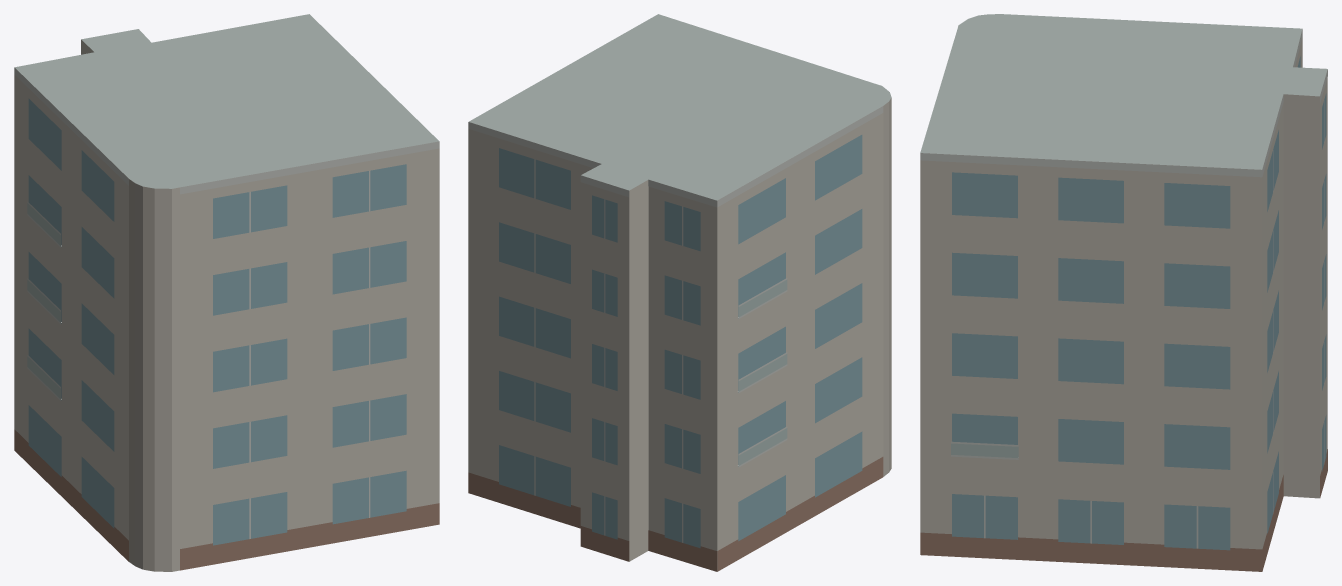
Rendered from survey-upis-32870442.glb.
The picture shows the model from 3 angles, left to right: view 1: azimuth 30°, elevation 25°; view 2: azimuth 150°, elevation 25°; view 3: azimuth 270°, elevation 25°; orthographic projection. The views are drawn at different scales.
Parts seen in each view (by area): view 1: survey-upis-32870442.tmp; view 2: survey-upis-32870442.tmp; view 3: survey-upis-32870442.tmp.
Part boxes in pixels (left/top/right/bottom): survey-upis-32870442.tmp: left=14, top=14, right=439, bottom=571; survey-upis-32870442.tmp: left=468, top=14, right=891, bottom=571; survey-upis-32870442.tmp: left=920, top=14, right=1327, bottom=571.
Bounding box in the file's own units: 10.98 × 13.2 × 12.14.
